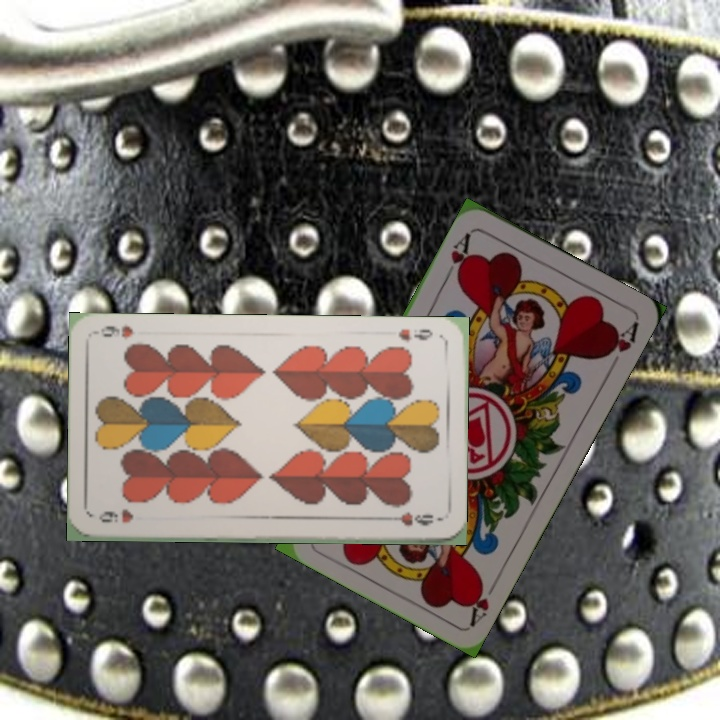H9: (394, 325, 436, 344), (95, 506, 136, 525)
HA: (441, 229, 474, 285), (463, 575, 492, 628)
